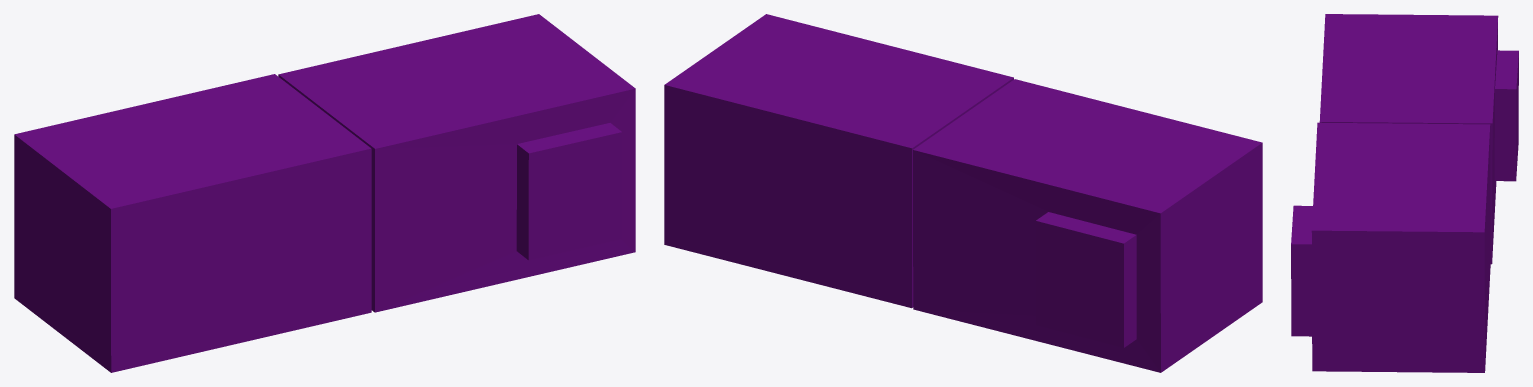
File: part_10_opt_2.obj
The picture shows the model from 3 angles, left to right: view 1: azimuth 30°, elevation 25°; view 2: azimuth 150°, elevation 25°; view 3: azimuth 270°, elevation 25°; orthographic projection. The views are drawn at different scales.
Visible parts, largest first — view 1: Box048, Box046; view 2: Box048, Box046; view 3: Box046, Box048.
Boxes of the visible parts, bbox=[...] form: Box048: bbox=[14, 74, 371, 372]; Box046: bbox=[278, 14, 635, 312]; Box048: bbox=[913, 79, 1262, 372]; Box046: bbox=[664, 14, 1013, 308]; Box046: bbox=[1291, 122, 1490, 372]; Box048: bbox=[1319, 14, 1518, 264].
Size of the model in its own units: 71.75 by 21.57 by 31.66.
